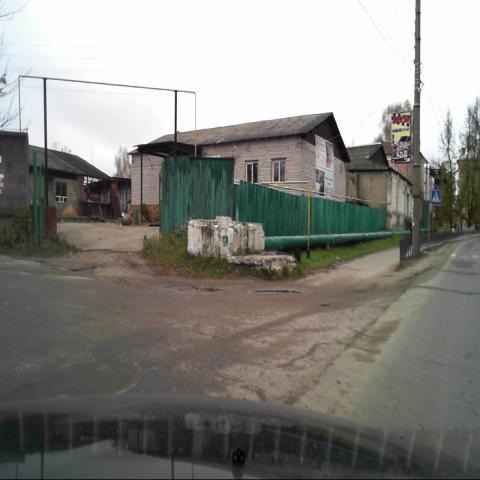5_19_1: (431, 189, 441, 205)
